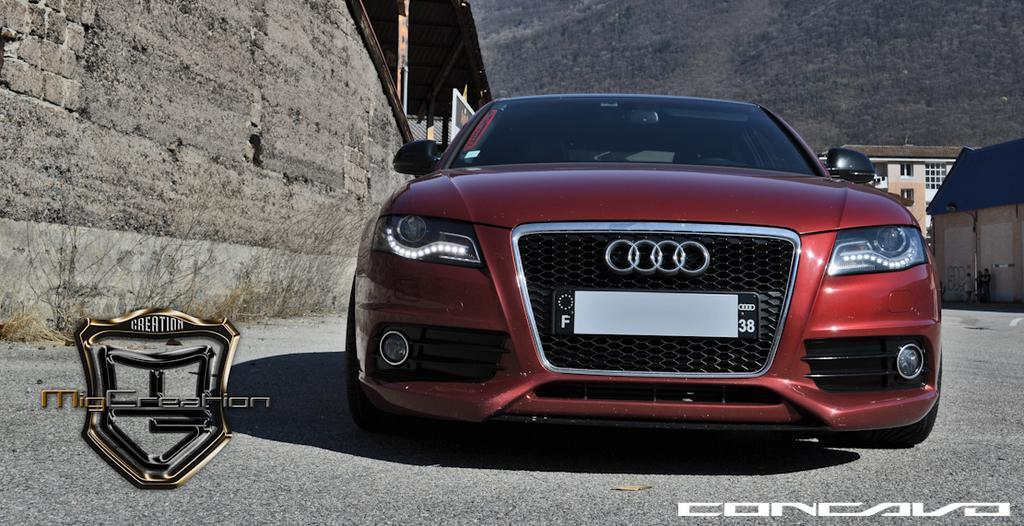Car: (347, 40, 967, 482)
